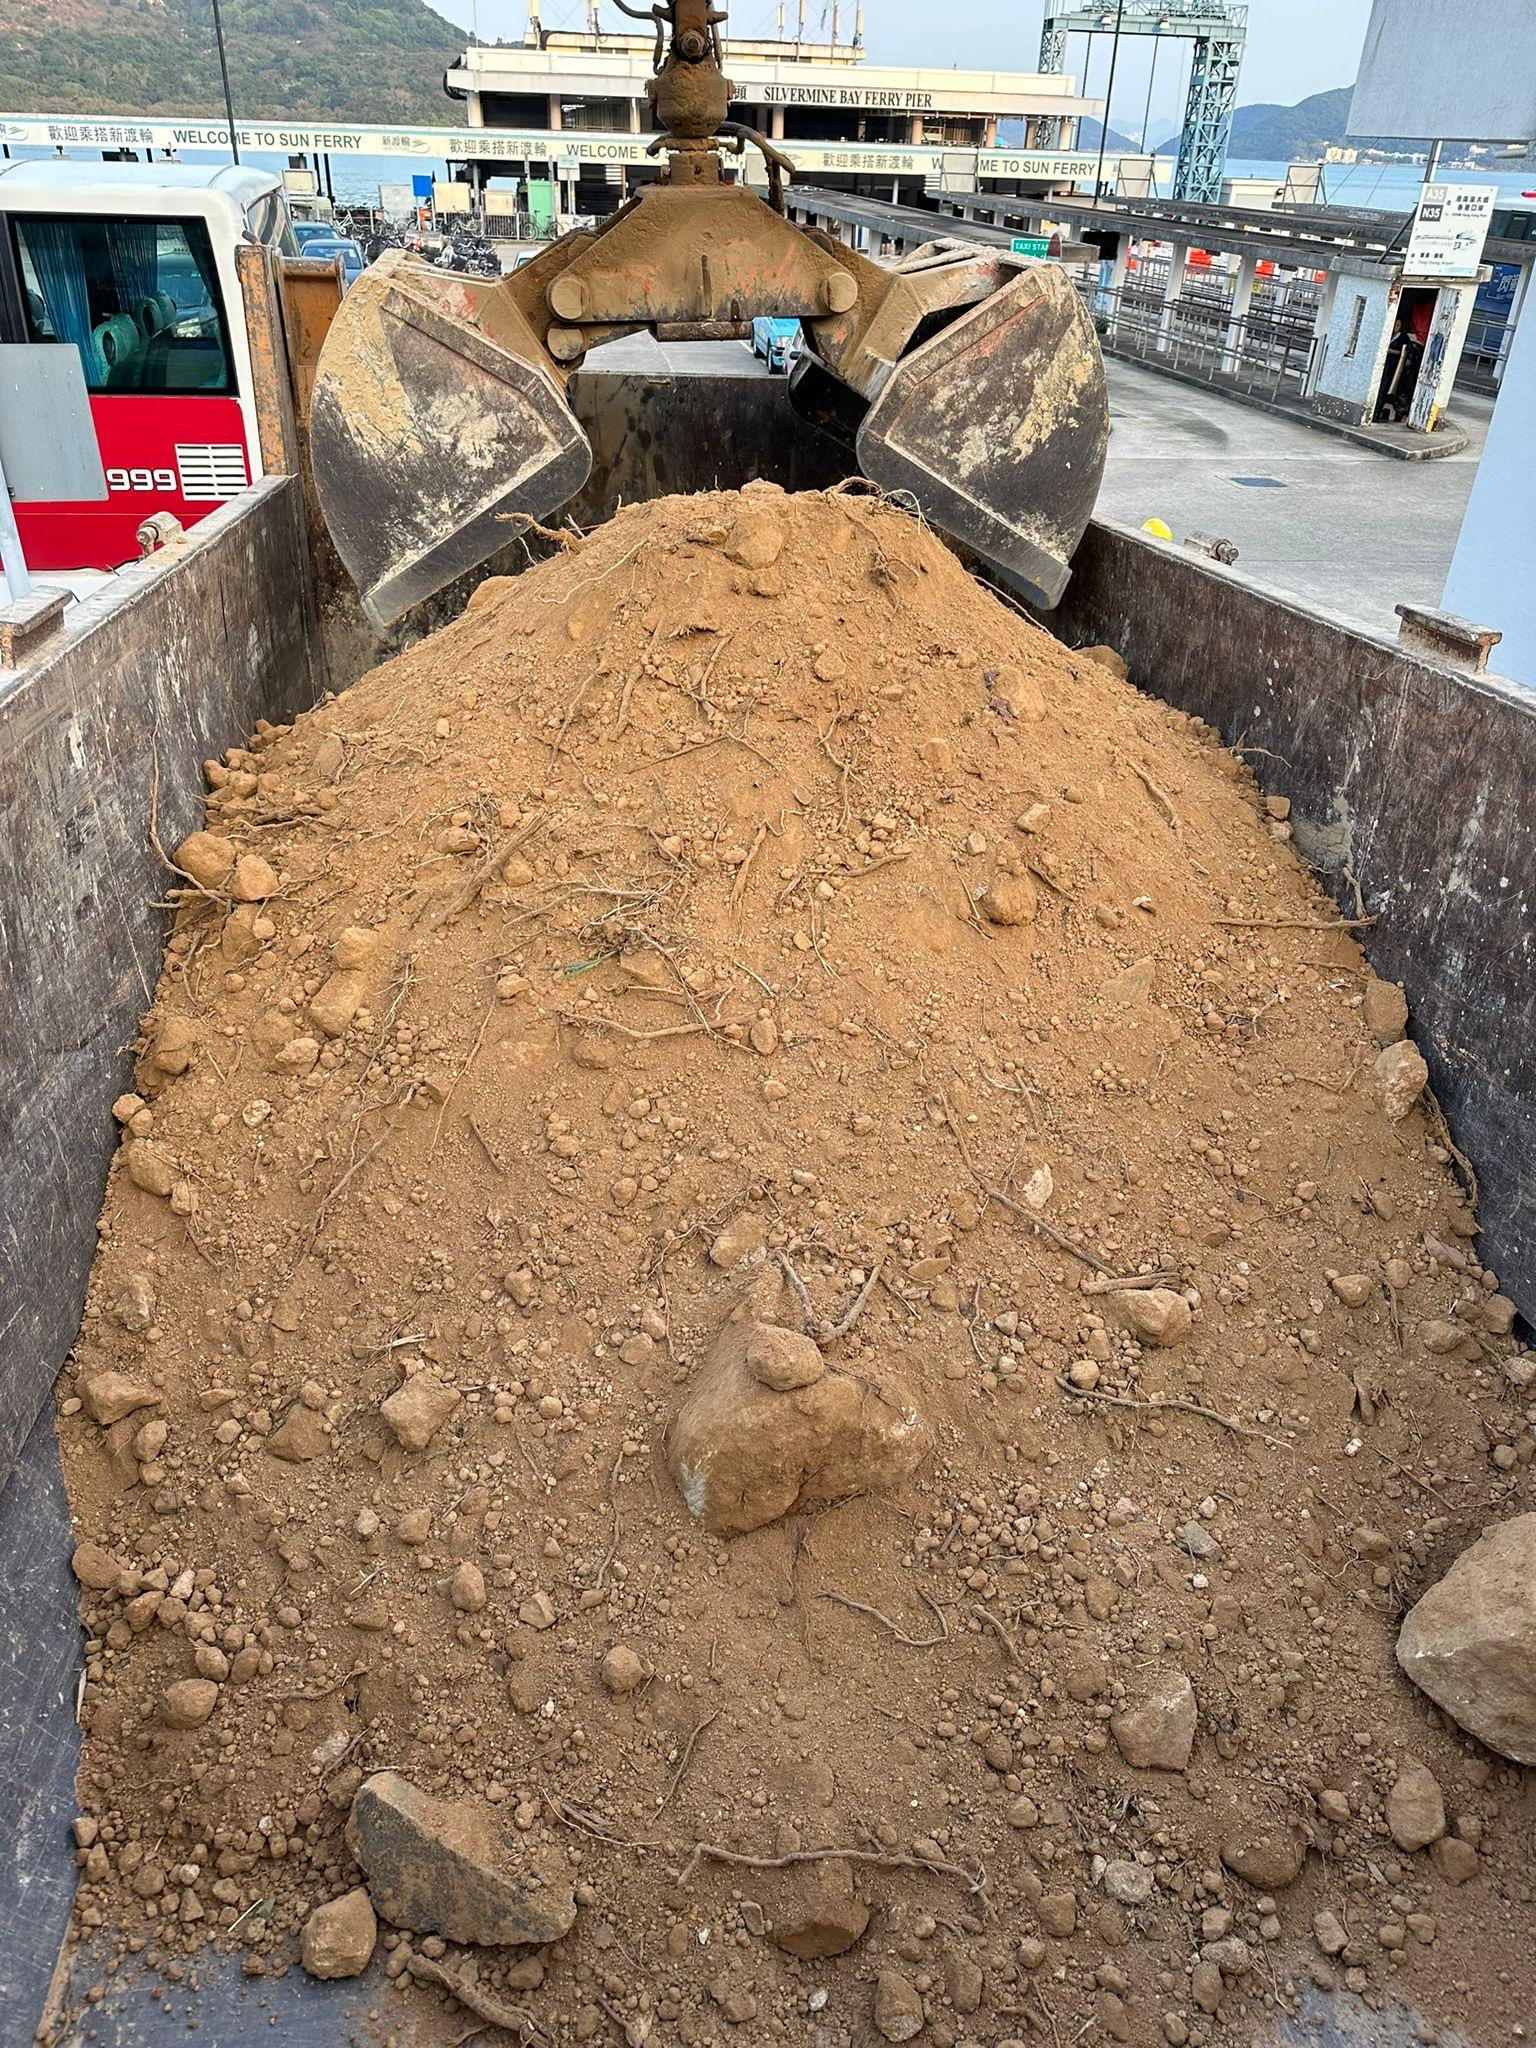dry: (53, 493, 1536, 2024)
